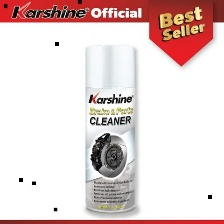aerosol_cans: (82, 41, 140, 216)
